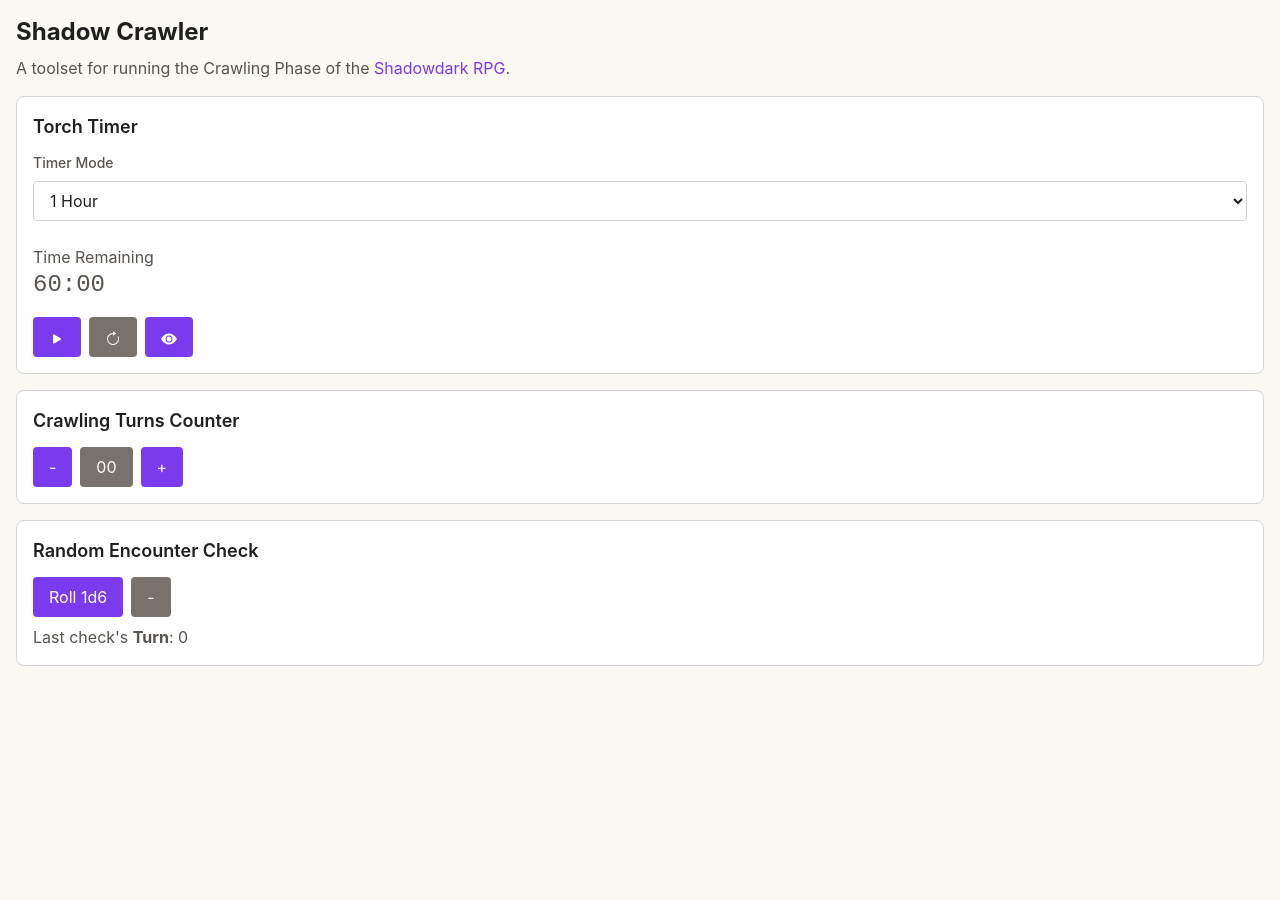
Main (Shadow Crawler) › increments crawling turns counter
The image size is (1280, 900).
Click the button "+" at coordinates (162, 467), box [140,447,183,487]
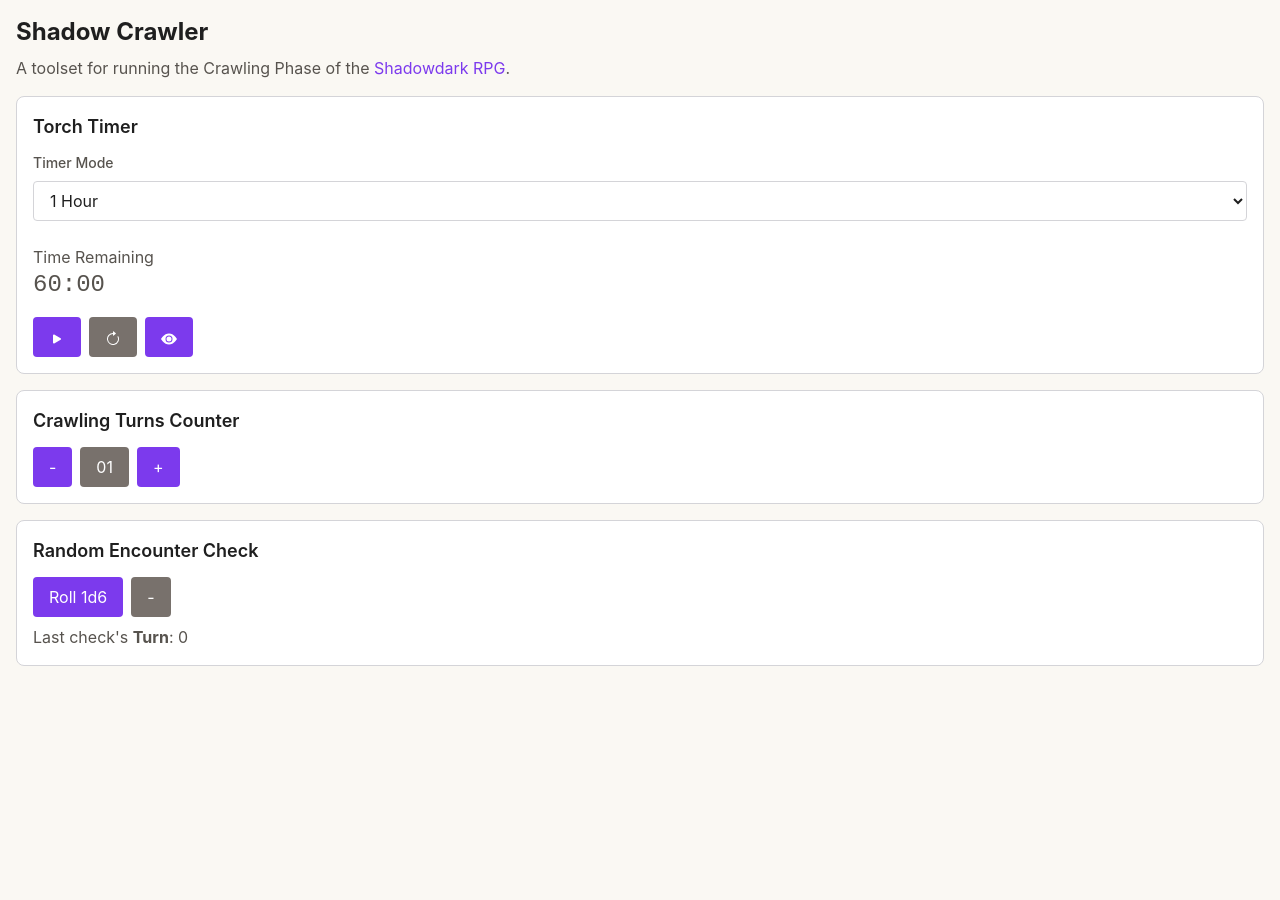
Check: the button "01" is shown, box [80,447,129,487]
